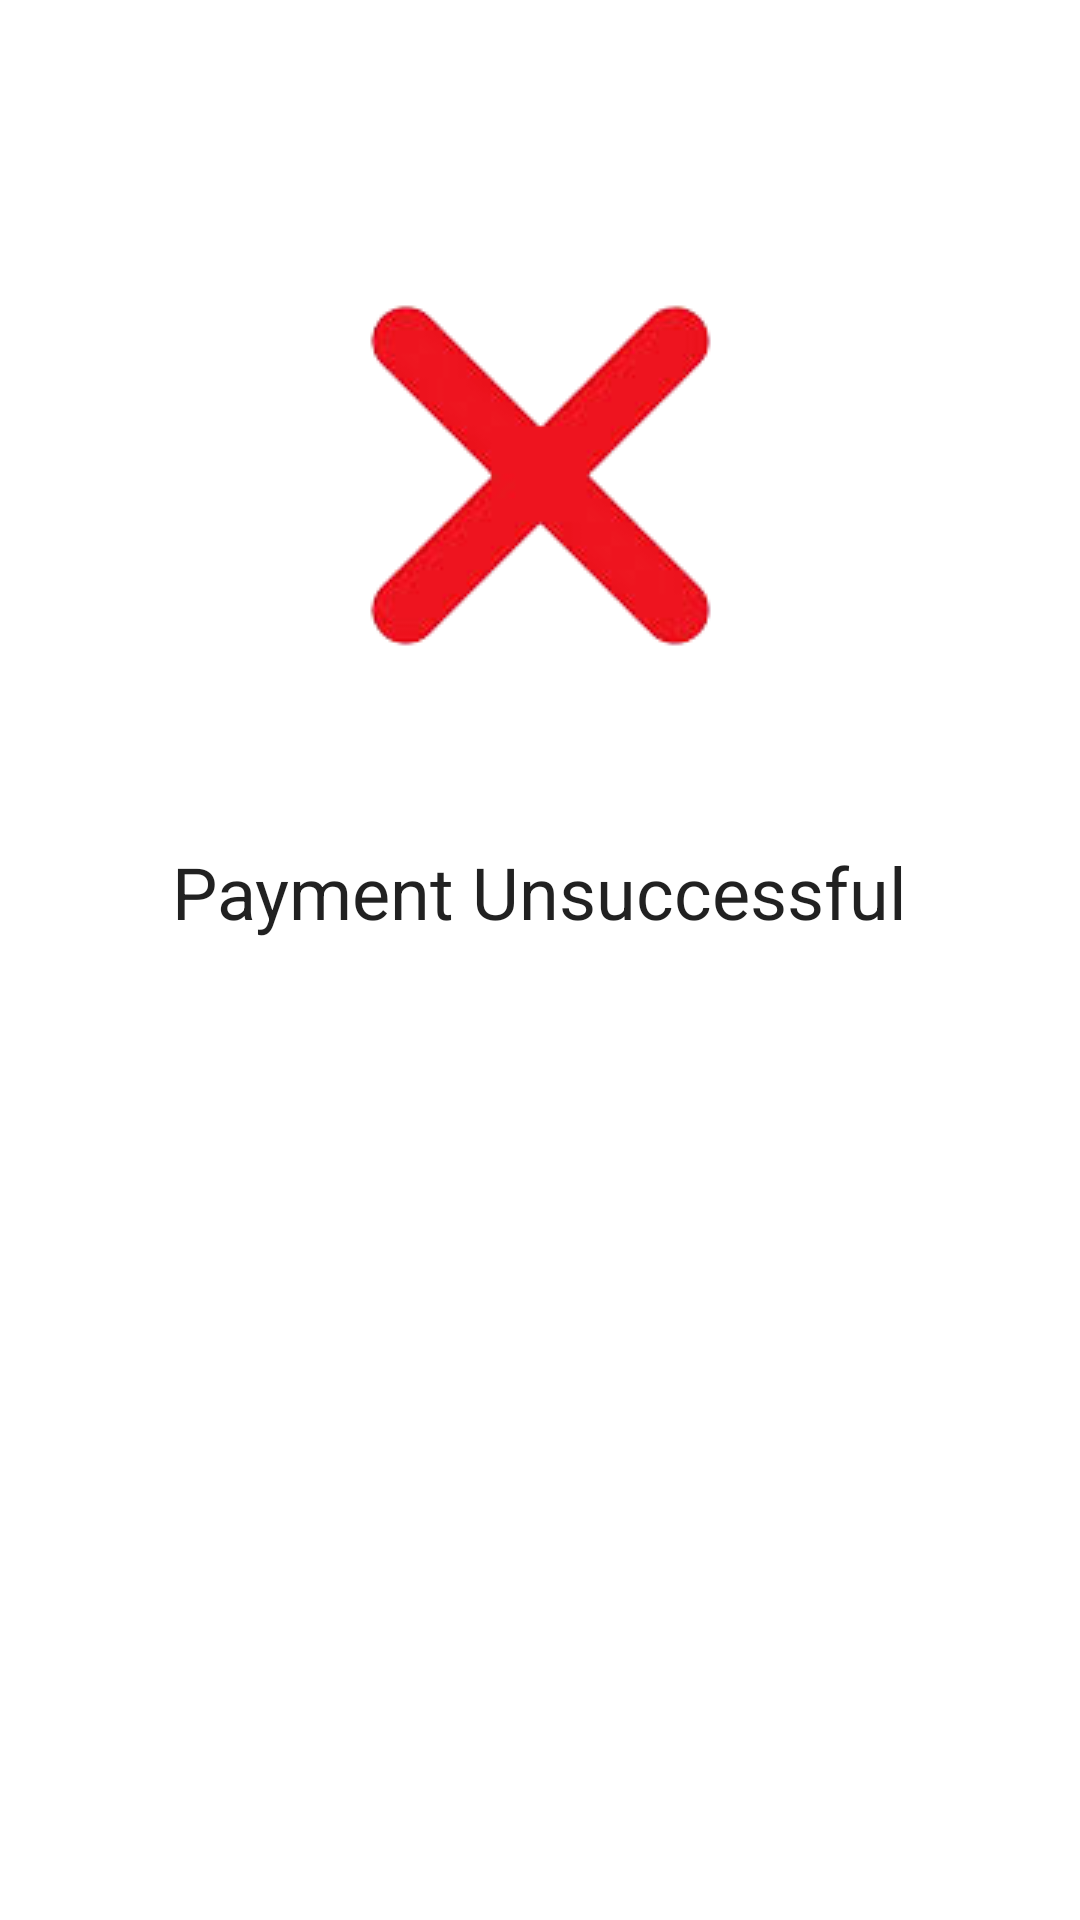

Screen size 1080 x 1920. Icon name, then its center in pixels as [x,y]:
wrong adobespark: [540,475]
